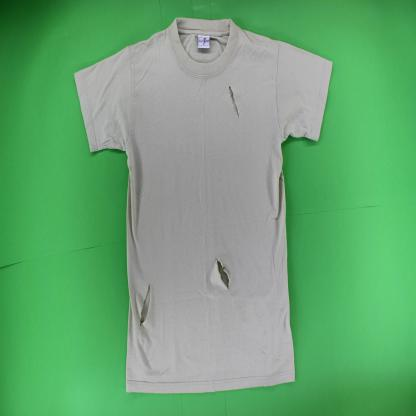hole: (139, 282, 152, 331), (214, 255, 231, 291), (227, 84, 241, 120)
